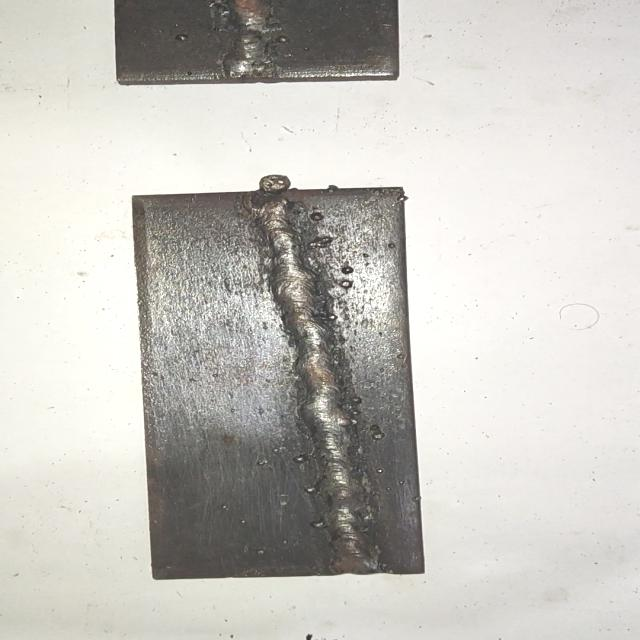Good Weld: (258, 193, 381, 569), (214, 0, 277, 74)
